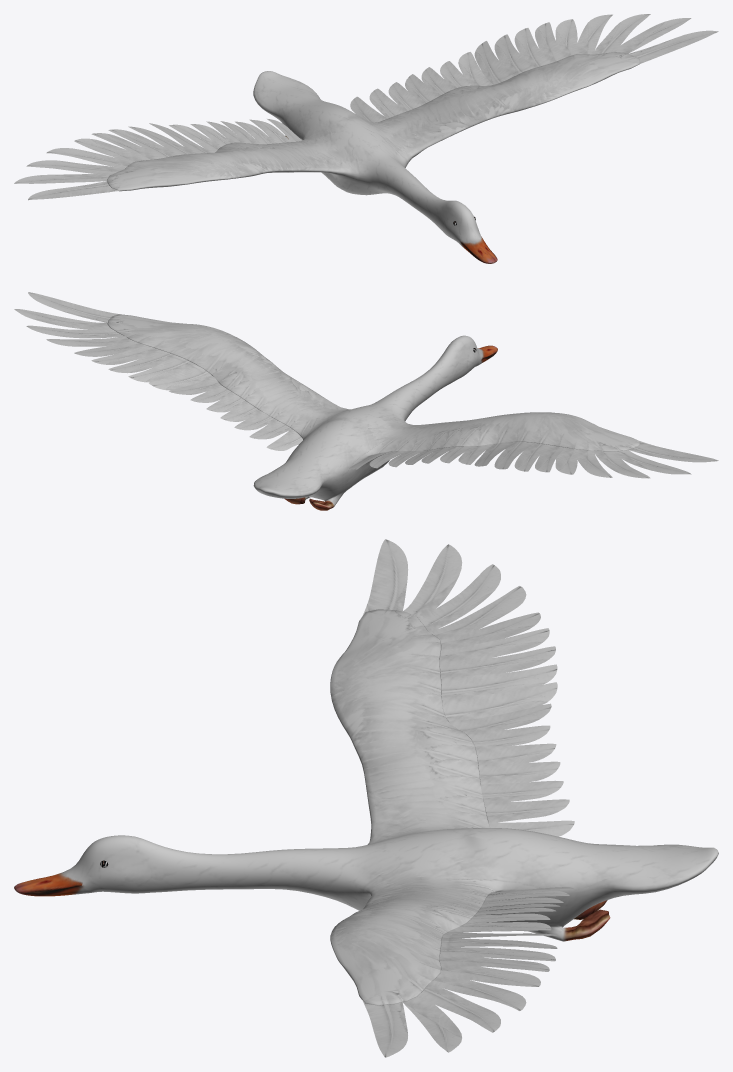
The model's file is ganso.glb.
3 renders of one model, top to bottom at view 1: azimuth 30°, elevation 25°; view 2: azimuth 150°, elevation 25°; view 3: azimuth 270°, elevation 25°, orthographic. The views are drawn at different scales.
Parts seen in each view (by area): view 1: ganso; view 2: ganso; view 3: ganso.
Part boxes in pixels (x1,y1,x2,y2): ganso: (14,14,718,263); ganso: (14,292,718,510); ganso: (14,539,718,1057).
Bounding box in the file's own units: 151 × 17.8 × 86.55.
1 material, 1 textured.
